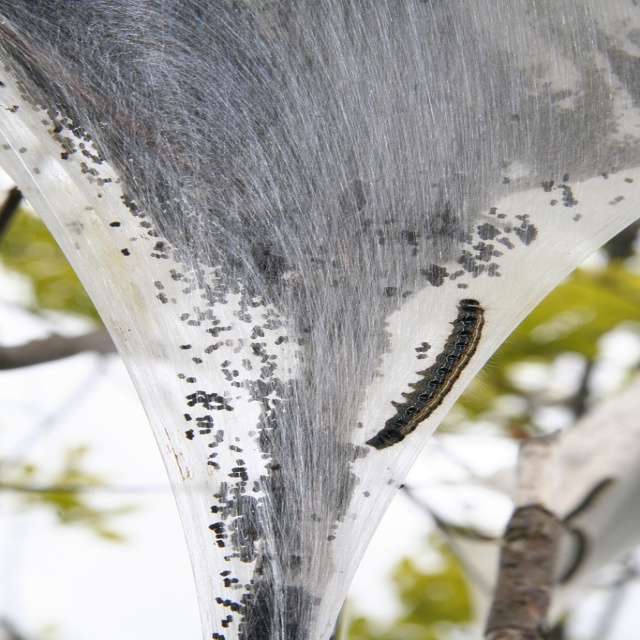Caterpillar: (366, 296, 514, 448)
